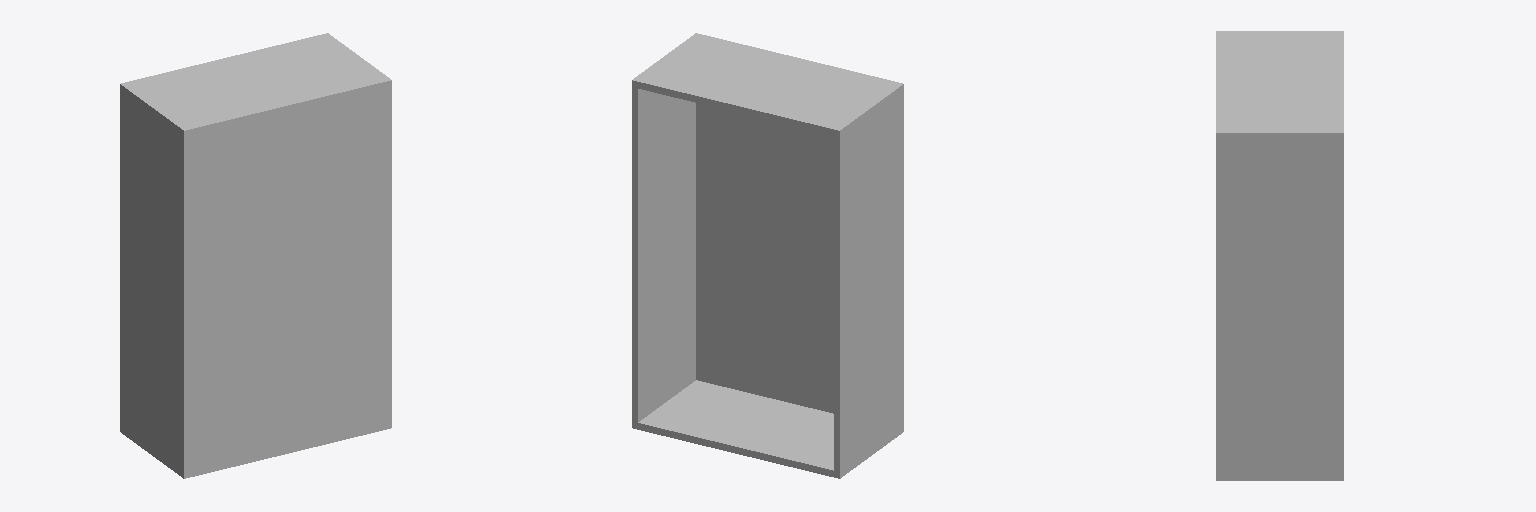
Rendered from Drawer.obj.
3 renders of one model, left to right at view 1: azimuth 30°, elevation 25°; view 2: azimuth 150°, elevation 25°; view 3: azimuth 270°, elevation 25°, orthographic.
Visible parts, largest first — view 1: Drawer2; view 2: Drawer2; view 3: Drawer2.
Boxes of the visible parts, <box> form: Drawer2: <box>120,33,391,478</box>; Drawer2: <box>632,33,903,478</box>; Drawer2: <box>1216,31,1343,480</box>.
Bounding box in the file's own units: 1.56 × 2.5 × 0.8385.